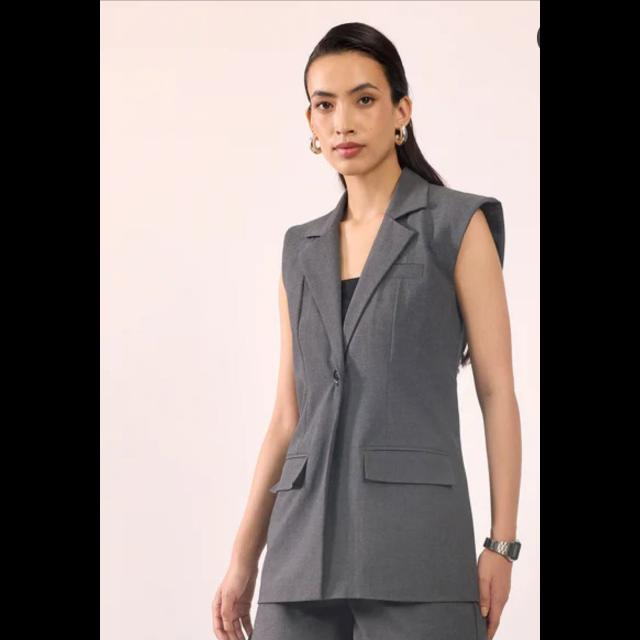jacket: (280, 209, 488, 609)
